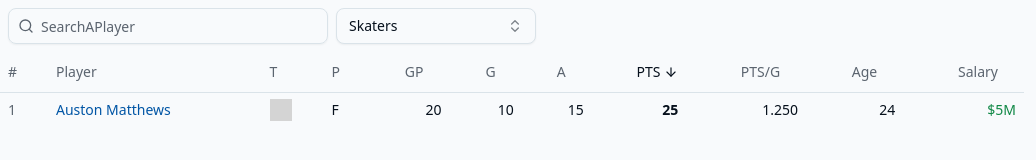
Test: PlayersTable › clears a search back to the list
Check: the text "Auston Matthews" is shown, box [56,101,171,119]
Type "mcd" into the search field named "PlayerSearch" at (168, 26), box [8,8,328,44]
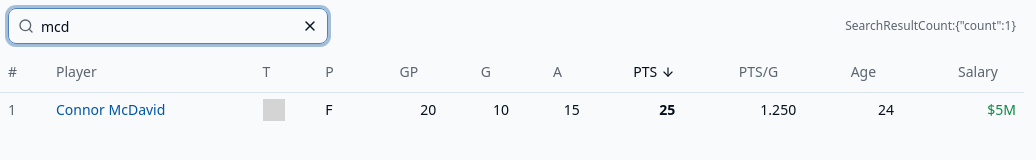
Check: the text "Connor McDavid" is shown, box [56,101,165,119]
Click the button named "ClearSearch" at (310, 26), box [294,10,326,42]
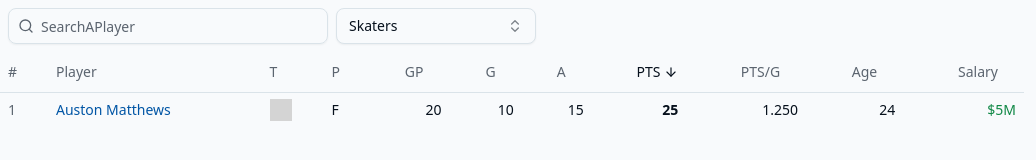
Check: the text "Auston Matthews" is shown, box [56,101,171,119]
